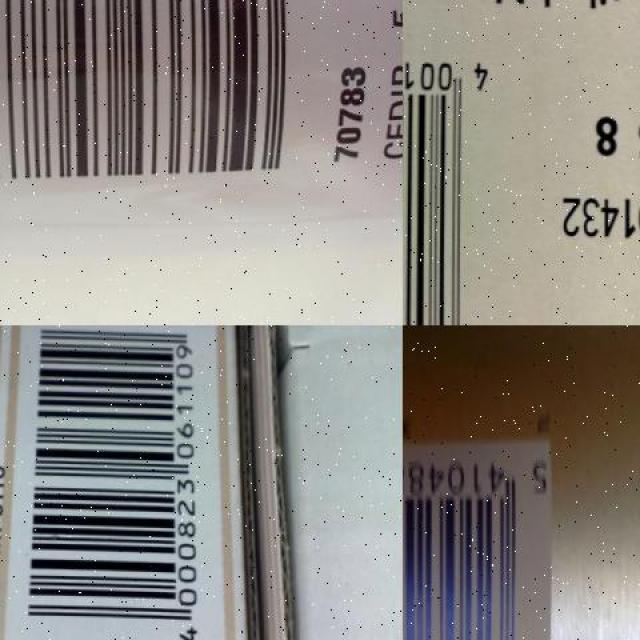Barcode: (0, 0, 322, 201), (20, 325, 219, 640), (403, 35, 504, 325), (403, 445, 549, 640)
